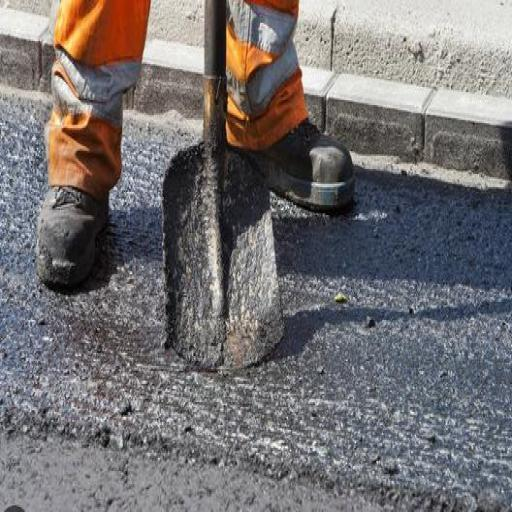safety_boots: (24, 186, 110, 291), (277, 132, 361, 218)
